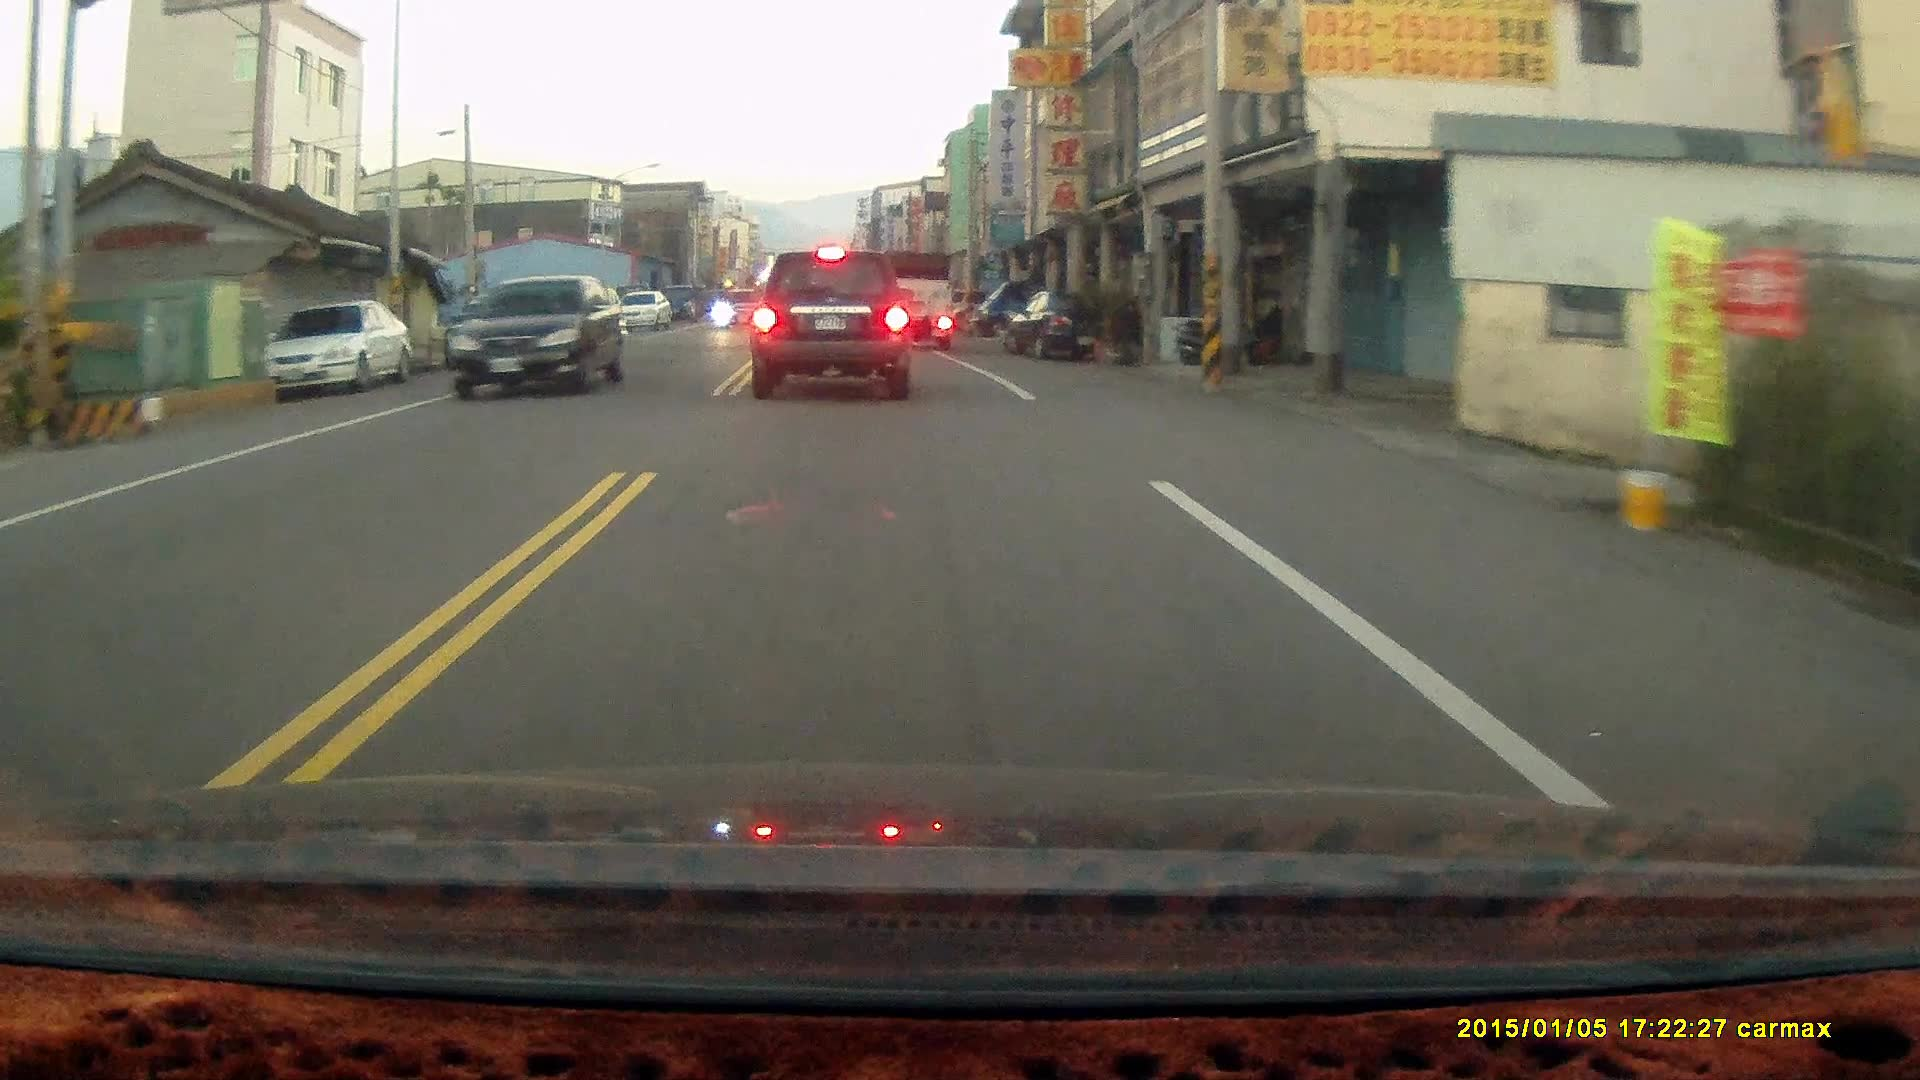vehicle: (752, 247, 916, 404), (448, 276, 625, 404), (258, 298, 414, 394), (1010, 291, 1127, 367), (878, 255, 956, 357), (615, 291, 673, 334)
